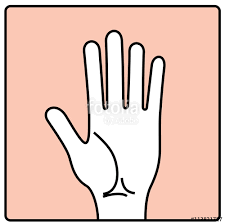palm: (86, 105, 158, 178)
